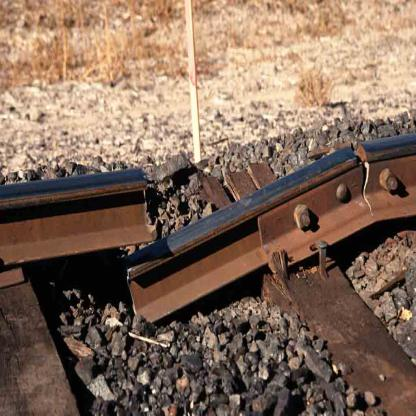Defective: (30, 99, 395, 339)
